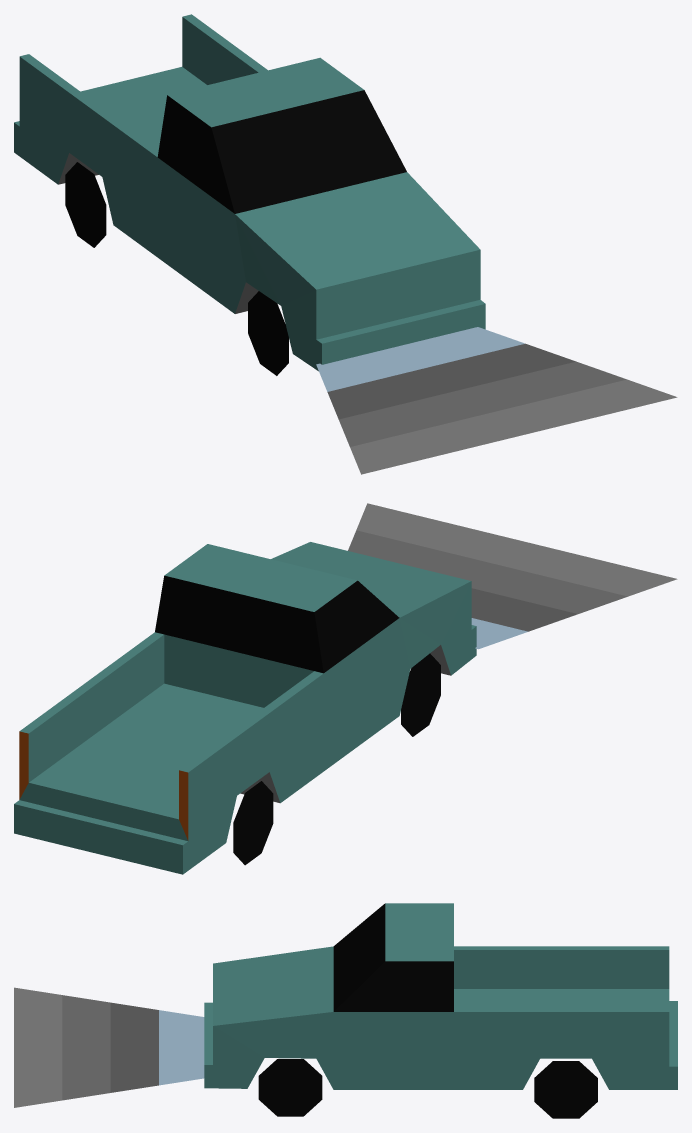
File: AUTO3.glb
3 views of the same model, one above another, from view 1: azimuth 30°, elevation 25°; view 2: azimuth 150°, elevation 25°; view 3: azimuth 270°, elevation 25° (orthographic). The views are drawn at different scales.
Visible parts, largest first — view 1: AUTO3 | archived geometry; view 2: AUTO3 | archived geometry; view 3: AUTO3 | archived geometry.
Boxes of the visible parts, x1,y1,x2,y2 form: AUTO3 | archived geometry: (14, 14, 677, 474); AUTO3 | archived geometry: (14, 503, 677, 874); AUTO3 | archived geometry: (14, 903, 677, 1118).
Bounding box in the file's own units: 3.33 × 1.98 × 7.75.
